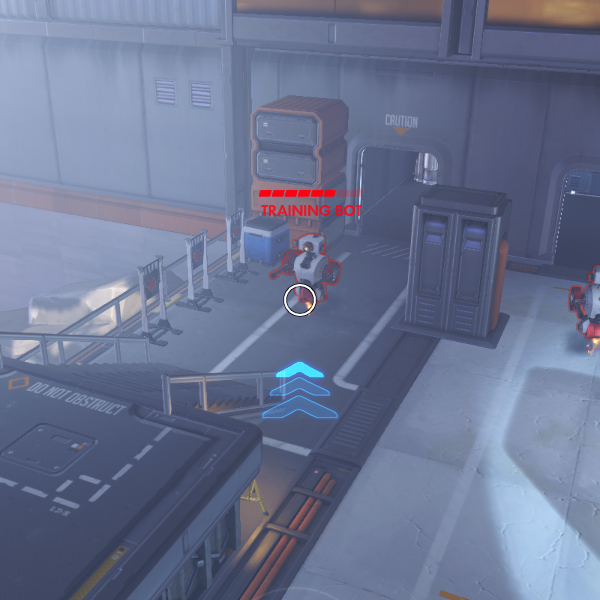hpbar: (258, 189, 363, 197)
